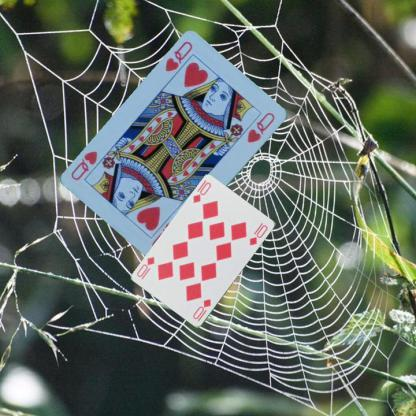10d: (190, 178, 213, 204), (190, 296, 212, 321)
Qh: (162, 38, 194, 76)
